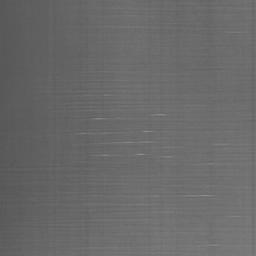Waist folding: (76, 112, 174, 159), (85, 193, 215, 207), (97, 5, 154, 29), (200, 142, 231, 167), (197, 243, 256, 248), (193, 30, 256, 34), (87, 245, 123, 250), (0, 167, 30, 172), (217, 6, 256, 8), (233, 215, 256, 218)
